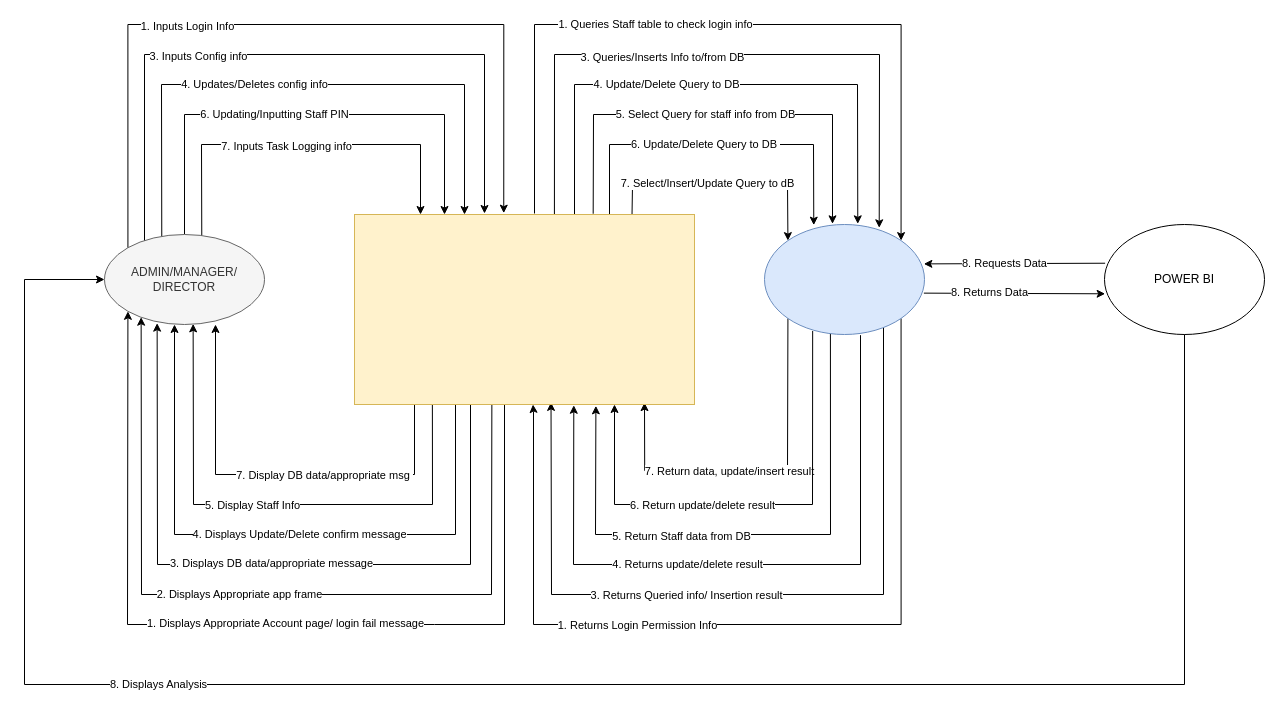
Some shapes in this 1282 by 710 pixel diagram are drawn without their labels. The centre of each missing label's shape, as x and y in pixels:
"AWS DATABASE" goes at point 844,279.
"DESKTOP APPLICATION" goes at point 524,309.
